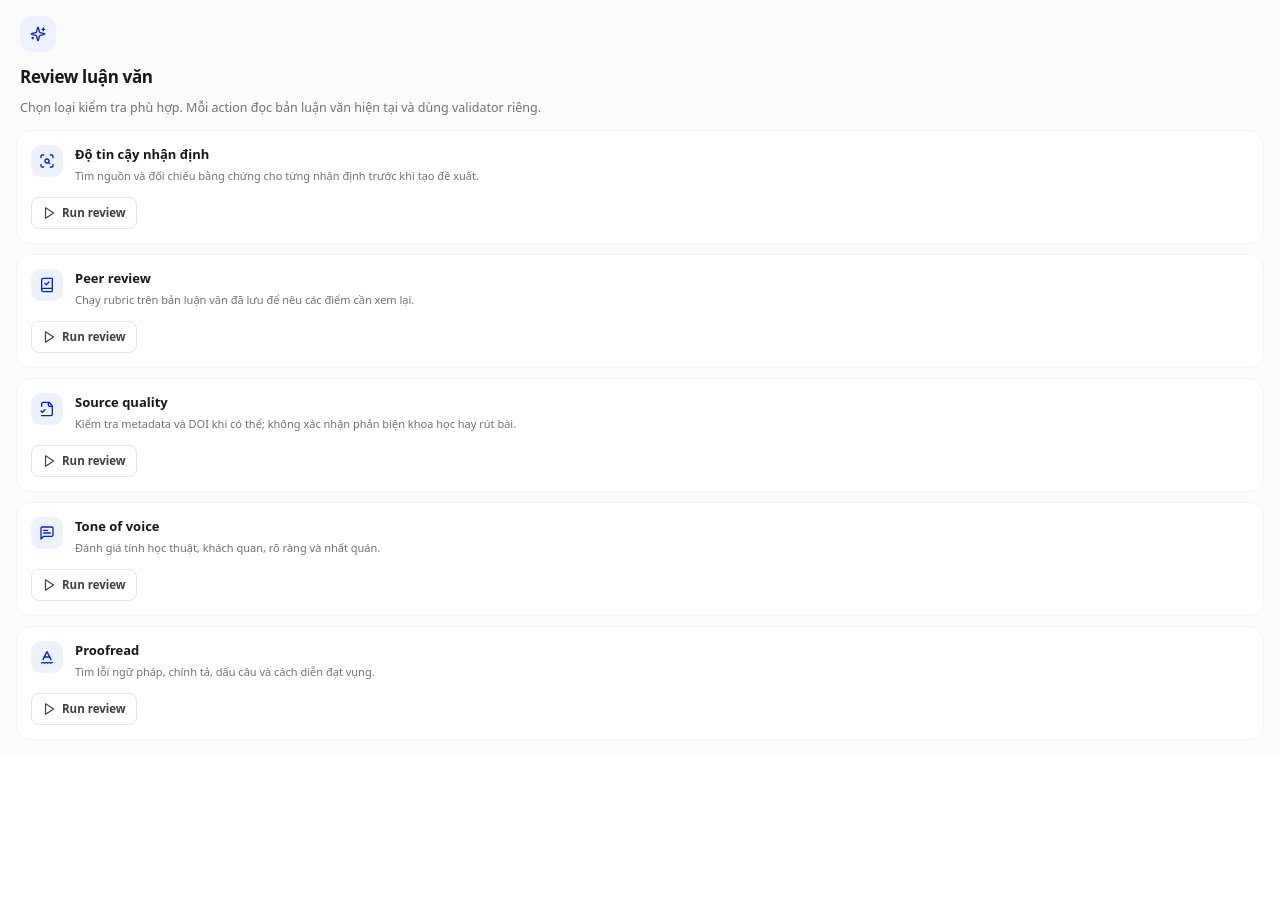
Scenario: ReviewPanel › makes View results the completed card's primary action
Click the button "Run review" below "Độ tin cậy nhận định" at (84, 212), box [31,196,137,228]
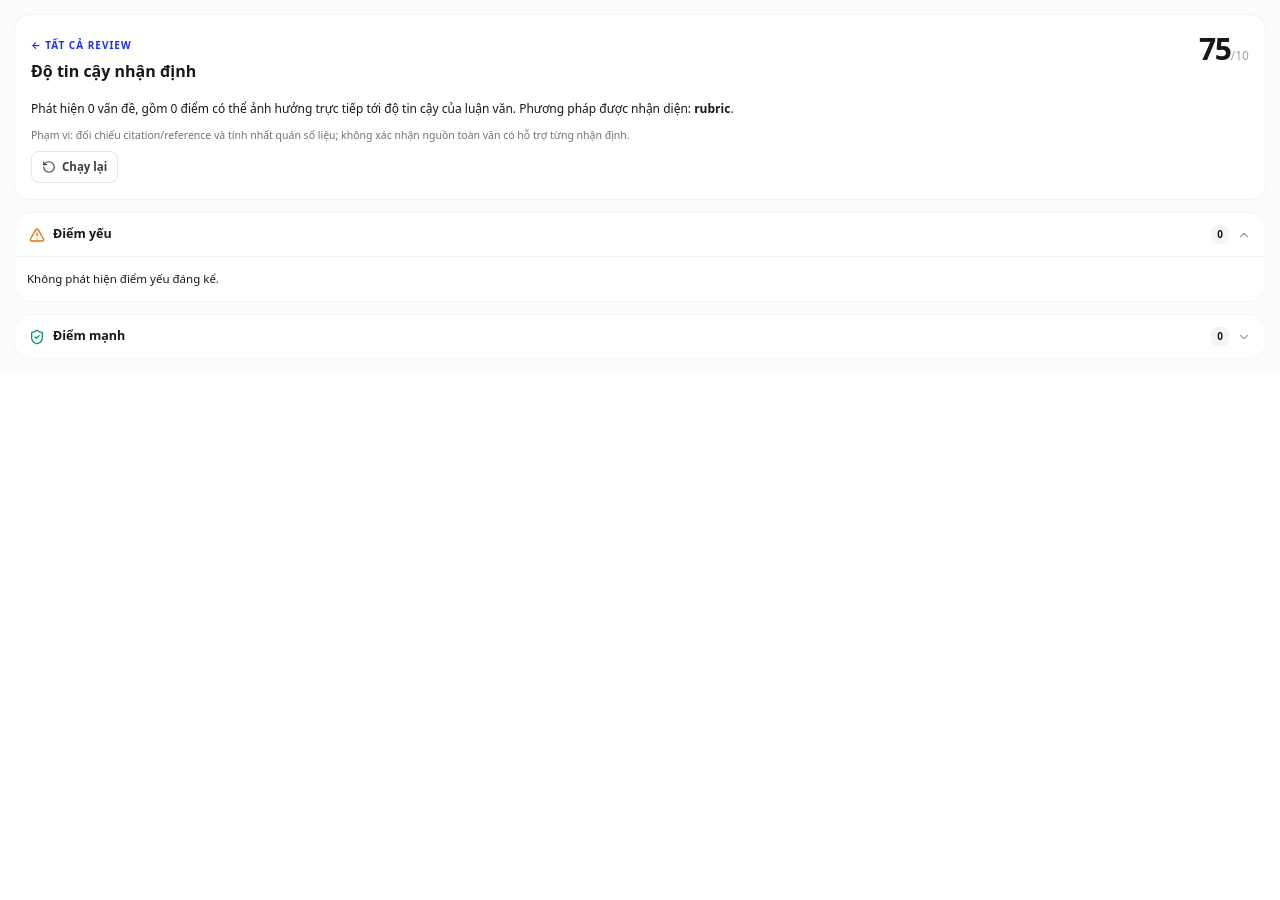
Now the text "75" is shown, box [1199,28,1231,69]
Click the button "← Tất cả review" at (81, 46), box [31,38,132,53]
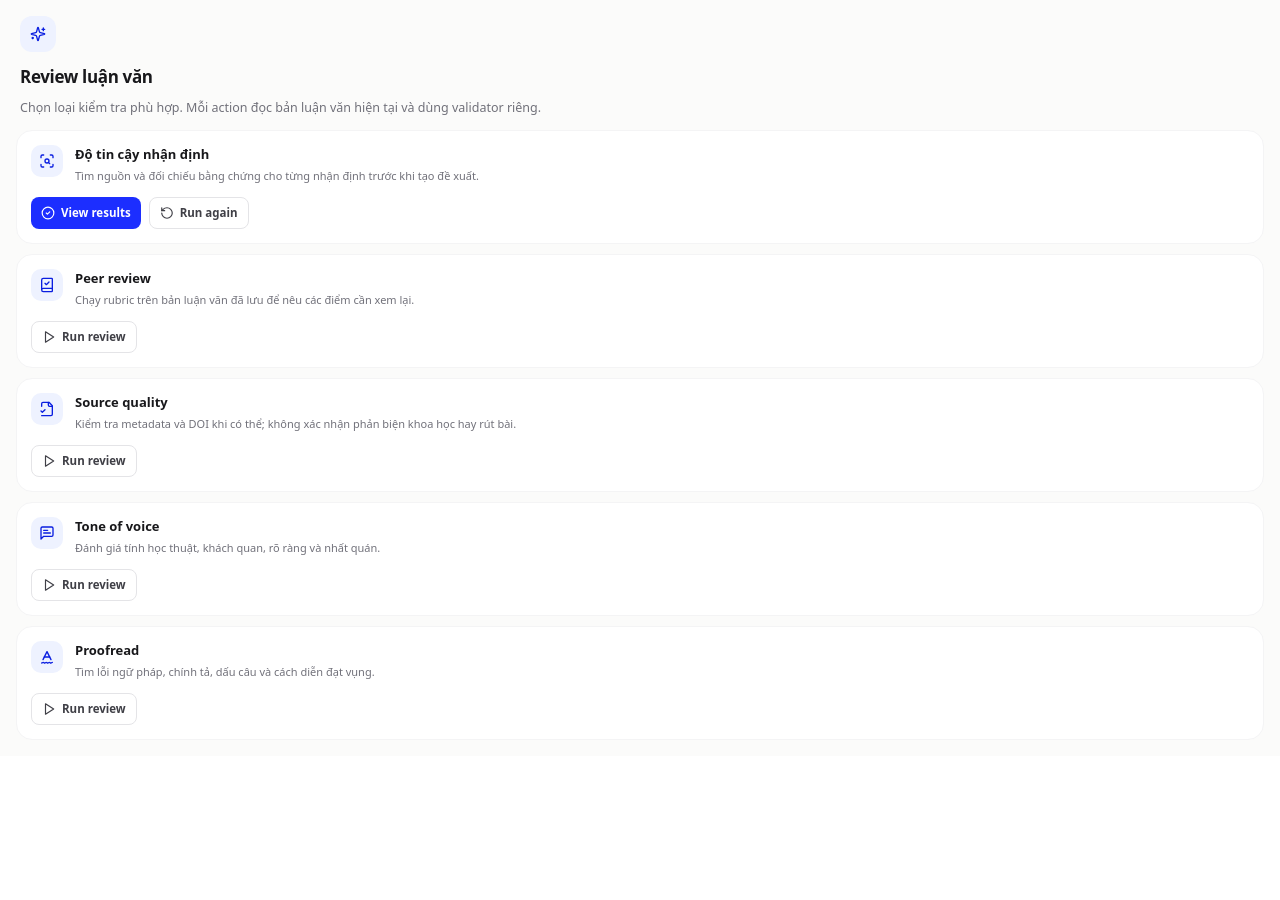
Now the button "View results" is shown
Now the button "Run again" is shown, box [149,196,249,228]
Now the number of buttons "Run review" is 4, box [31,320,137,352]; [31,444,137,476]; [31,568,137,600]; [31,692,137,724]
Click the button "View results" at (86, 212), box [31,196,141,228]
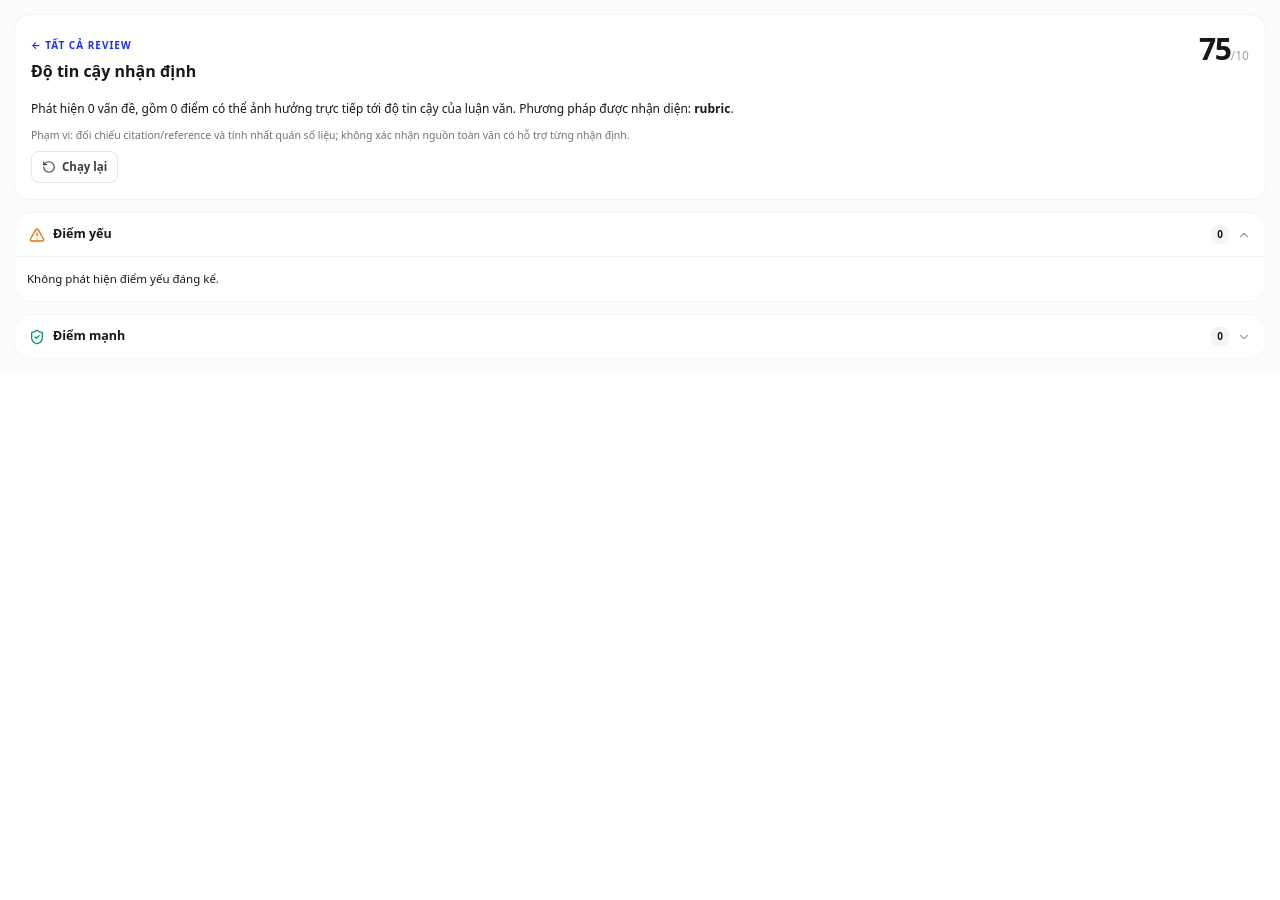
Now the text "75" is shown, box [1199,28,1231,69]
